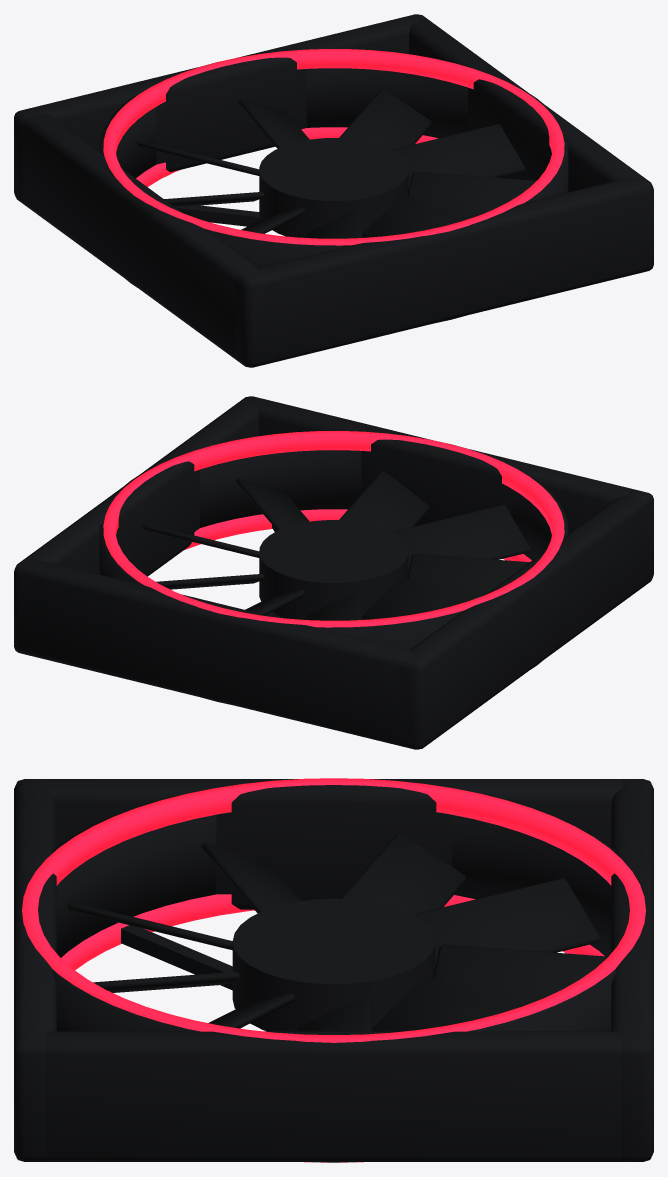
File: fan-120.glb
3 views of the same model, one above another, from view 1: azimuth 30°, elevation 25°; view 2: azimuth 150°, elevation 25°; view 3: azimuth 270°, elevation 25° (orthographic). The views are drawn at different scales.
Parts seen in each view (by area): view 1: fan_frame, fan_rotor; view 2: fan_frame, fan_rotor; view 3: fan_frame, fan_rotor.
Boxes of the visible parts, x1,y1,x2,y2 form: fan_frame: [14, 14, 653, 367]; fan_rotor: [137, 89, 536, 238]; fan_frame: [14, 396, 653, 749]; fan_rotor: [142, 471, 530, 620]; fan_frame: [14, 778, 653, 1162]; fan_rotor: [67, 833, 607, 1031].
Bounding box in the file's own units: 0.12 × 0.025 × 0.12.
